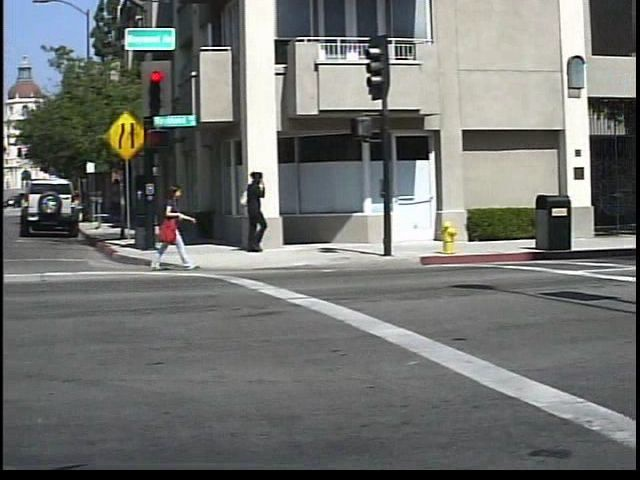person: (157, 182, 208, 274), (241, 169, 283, 255)
